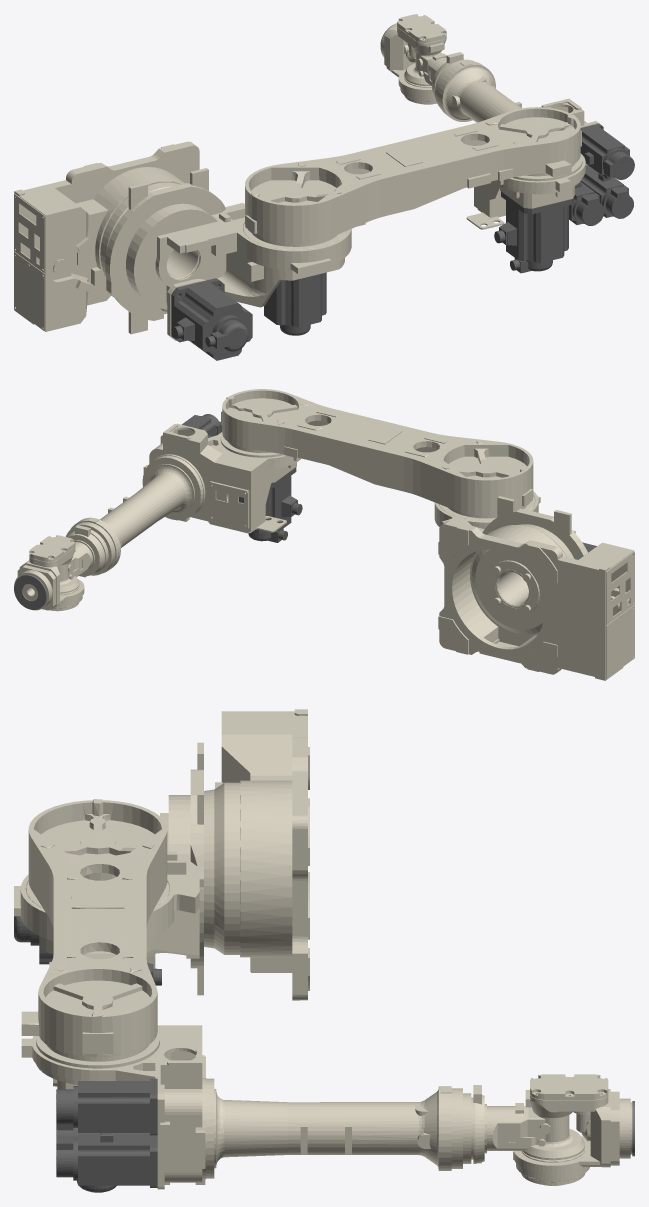
Rendered from HDR50-22.glb.
3 renders of one model, top to bottom at view 1: azimuth 30°, elevation 25°; view 2: azimuth 150°, elevation 25°; view 3: azimuth 270°, elevation 25°, orthographic. The views are drawn at different scales.
Visible parts, largest first — view 1: upper_frame_link, lower_frame_link, base_link, arm_link, motor_s, motor_v, wrist_holder_link, motor_h, motor_w1, motor_w2, wrist_body_link, motor_w3; view 2: base_link, upper_frame_link, arm_link, lower_frame_link, wrist_holder_link, wrist_body_link, motor_v, flange_link, motor_w1; view 3: upper_frame_link, arm_link, base_link, lower_frame_link, wrist_holder_link, motor_w2, wrist_body_link, motor_w1, motor_s.
Part boxes in pixels (x1=…): upper_frame_link: x1=245, y1=107, x2=581, y2=243; lower_frame_link: x1=105, y1=168, x2=351, y2=340; base_link: x1=14, y1=141, x2=199, y2=331; arm_link: x1=435, y1=59, x2=599, y2=229; motor_s: x1=171, y1=278, x2=252, y2=360; motor_v: x1=494, y1=191, x2=573, y2=273; wrist_holder_link: x1=380, y1=14, x2=446, y2=104; motor_h: x1=264, y1=272, x2=326, y2=335; motor_w1: x1=580, y1=123, x2=634, y2=179; motor_w2: x1=580, y1=165, x2=633, y2=218; wrist_body_link: x1=404, y1=52, x2=463, y2=96; motor_w3: x1=569, y1=181, x2=604, y2=225; base_link: x1=438, y1=520, x2=634, y2=680; upper_frame_link: x1=221, y1=389, x2=533, y2=515; arm_link: x1=66, y1=423, x2=301, y2=575; lower_frame_link: x1=434, y1=491, x2=587, y2=559; wrist_holder_link: x1=14, y1=535, x2=84, y2=611; wrist_body_link: x1=57, y1=525, x2=104, y2=593; motor_v: x1=239, y1=467, x2=302, y2=542; flange_link: x1=14, y1=574, x2=46, y2=609; motor_w1: x1=182, y1=414, x2=222, y2=437; upper_frame_link: x1=21, y1=799, x2=167, y2=1057; arm_link: x1=21, y1=1025, x2=473, y2=1189; base_link: x1=204, y1=709, x2=309, y2=1000; lower_frame_link: x1=14, y1=742, x2=203, y2=995; wrist_holder_link: x1=513, y1=1074, x2=632, y2=1185; motor_w2: x1=56, y1=1133, x2=157, y2=1187; wrist_body_link: x1=473, y1=1085, x2=584, y2=1163; motor_w1: x1=56, y1=1078, x2=157, y2=1135; motor_s: x1=14, y1=916, x2=53, y2=964.
Bounding box in the file's own units: 1.93 × 0.5052 × 1.41.
